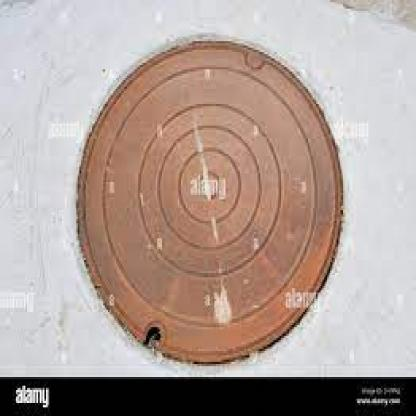closed manhole-not overflowing-: (73, 34, 345, 363)
